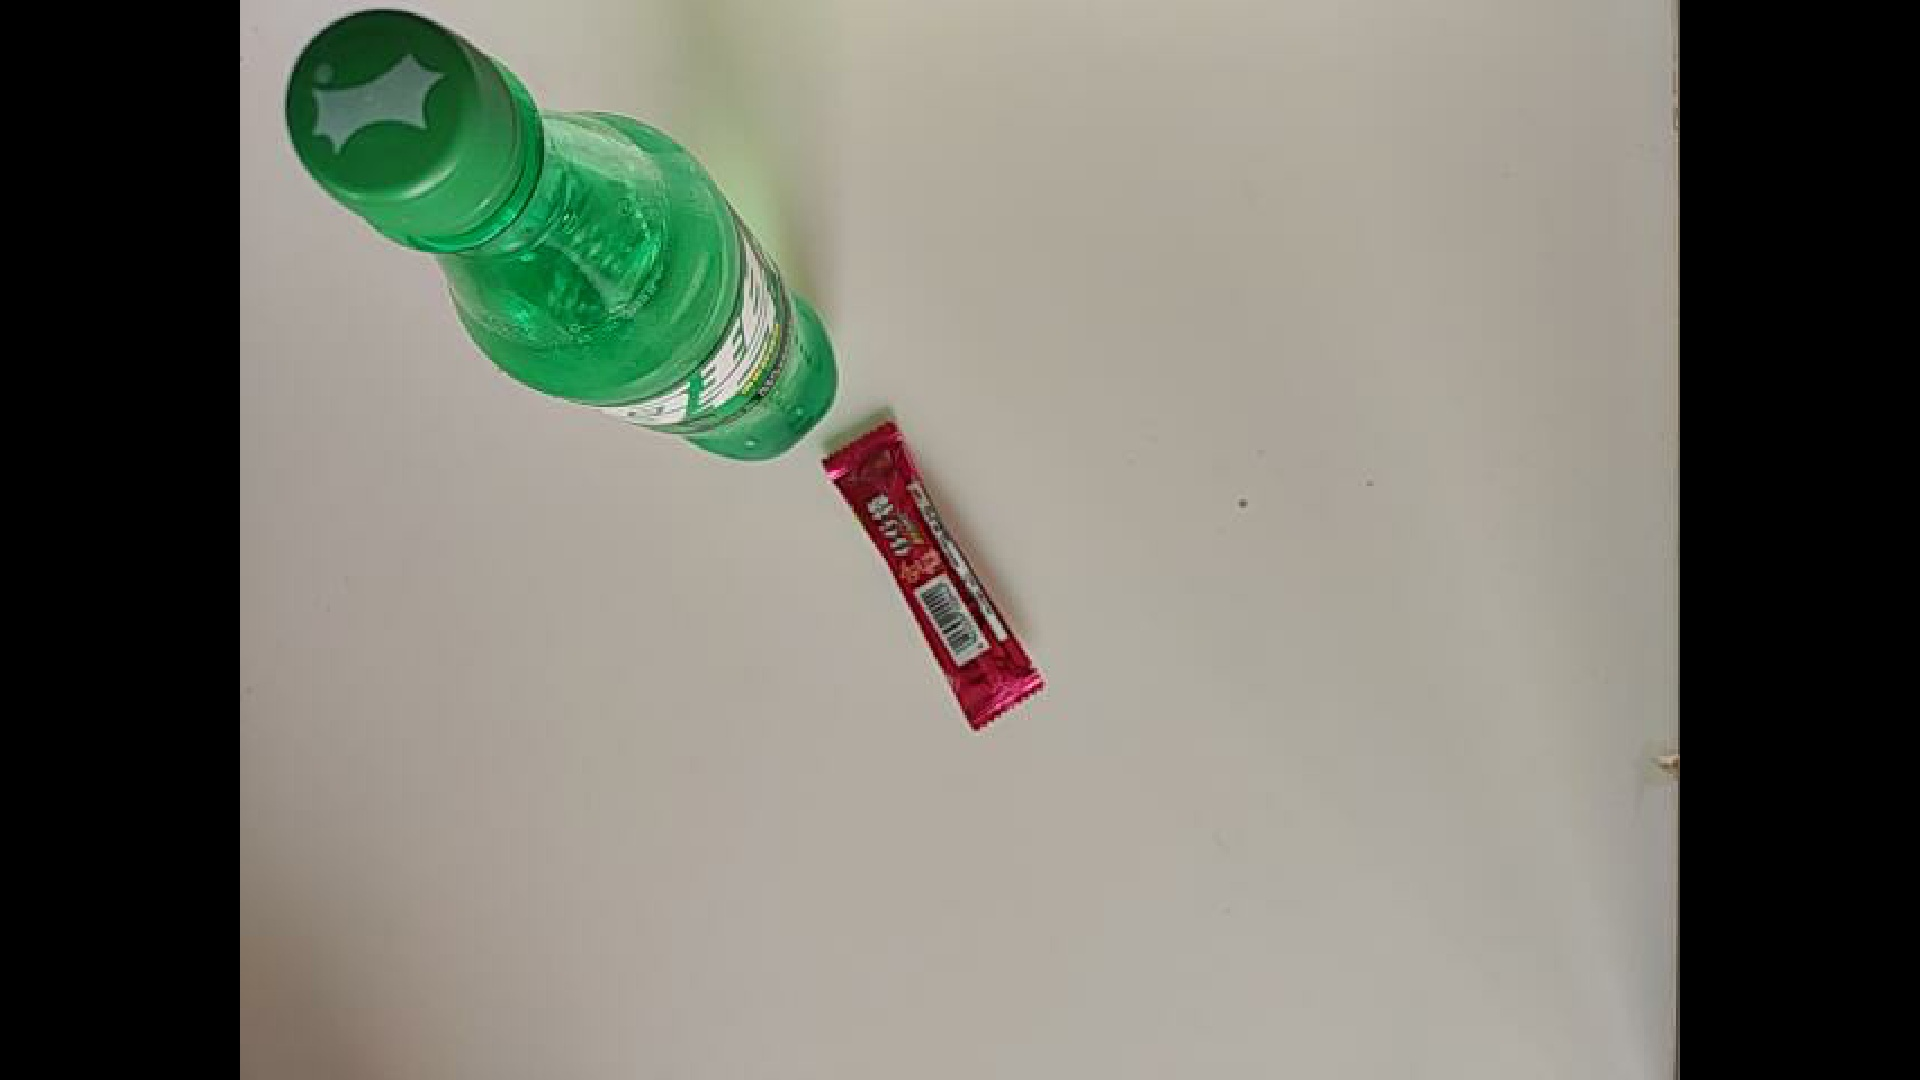sprite: (284, 7, 840, 464)
sugar: (744, 413, 1056, 617)
